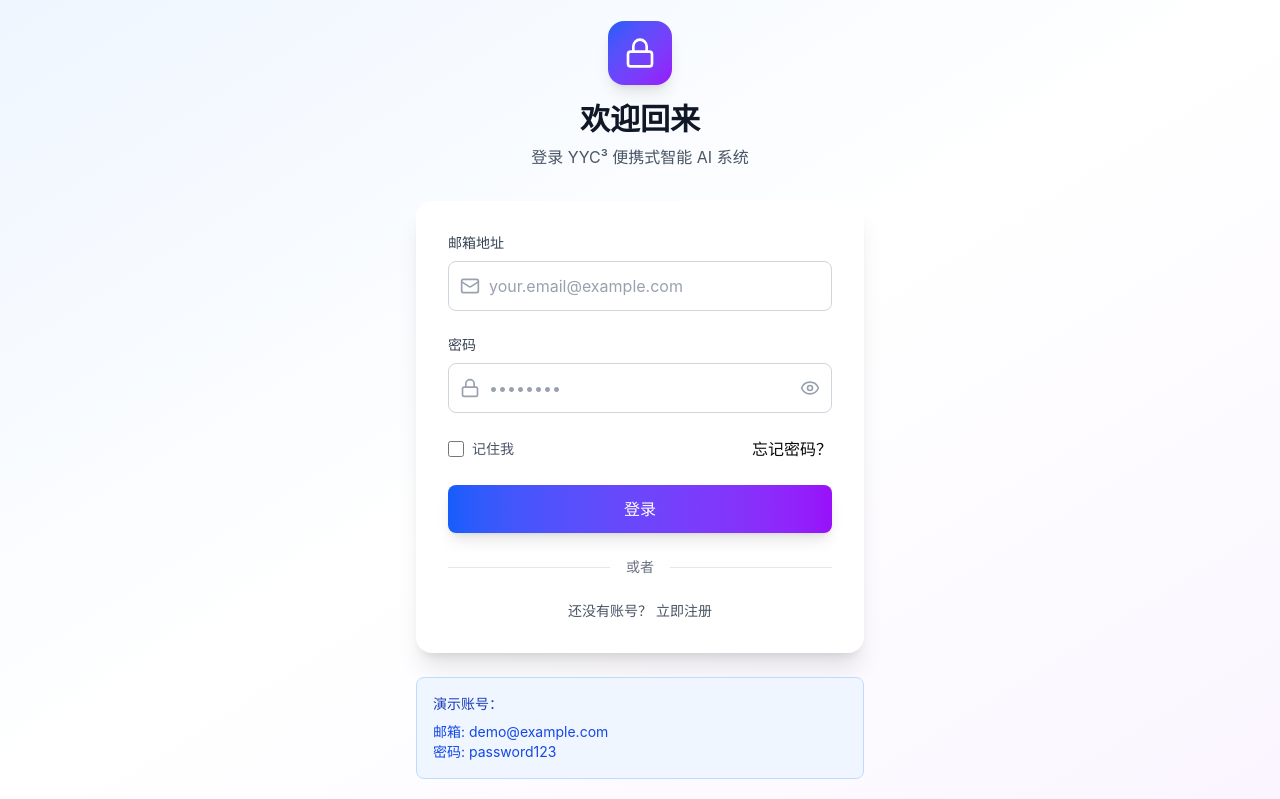
Test case: LoginPage › 应该显示登录错误信息
Type "wrong@example.com" into the field with placeholder "your.email@example.com". click: (640, 286)
box: [448,261,832,311]
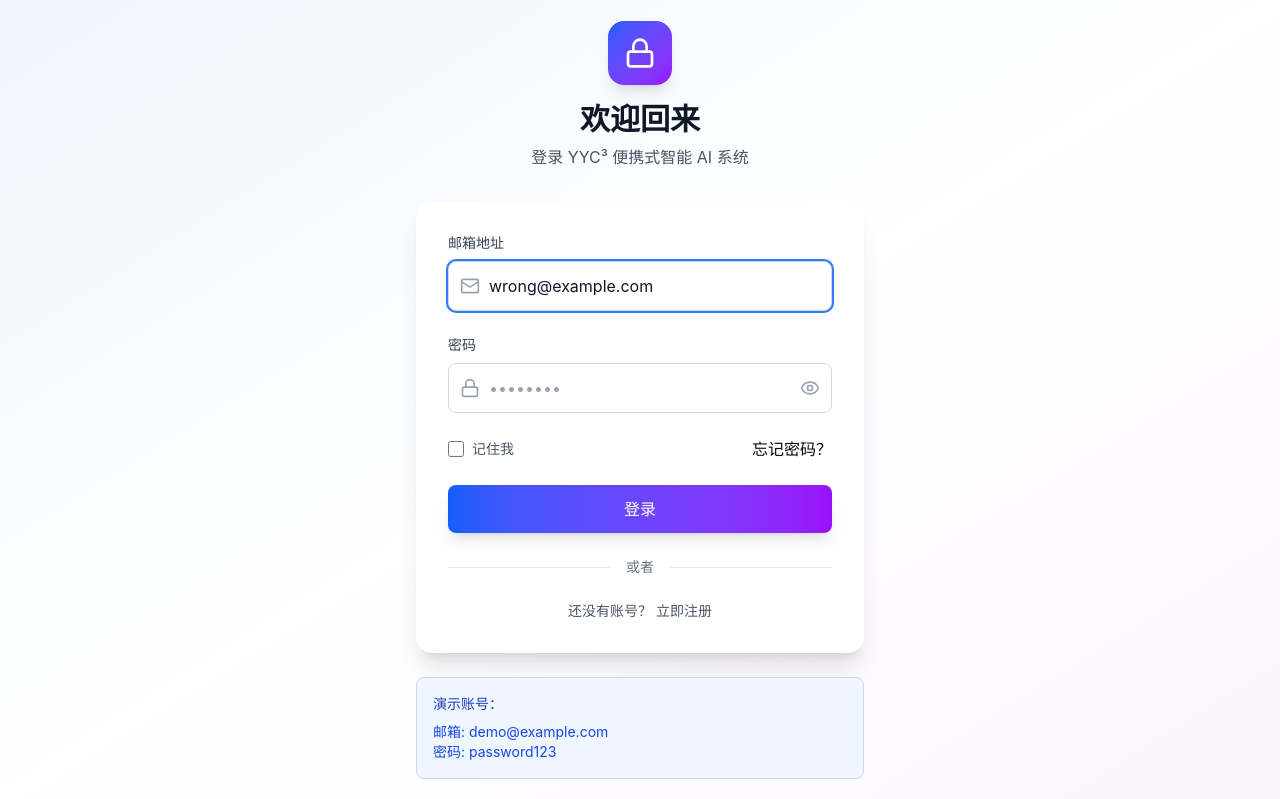
Type "wrongpassword" into the password field with placeholder "••••••••". click: (640, 388)
box: [448,363,832,413]
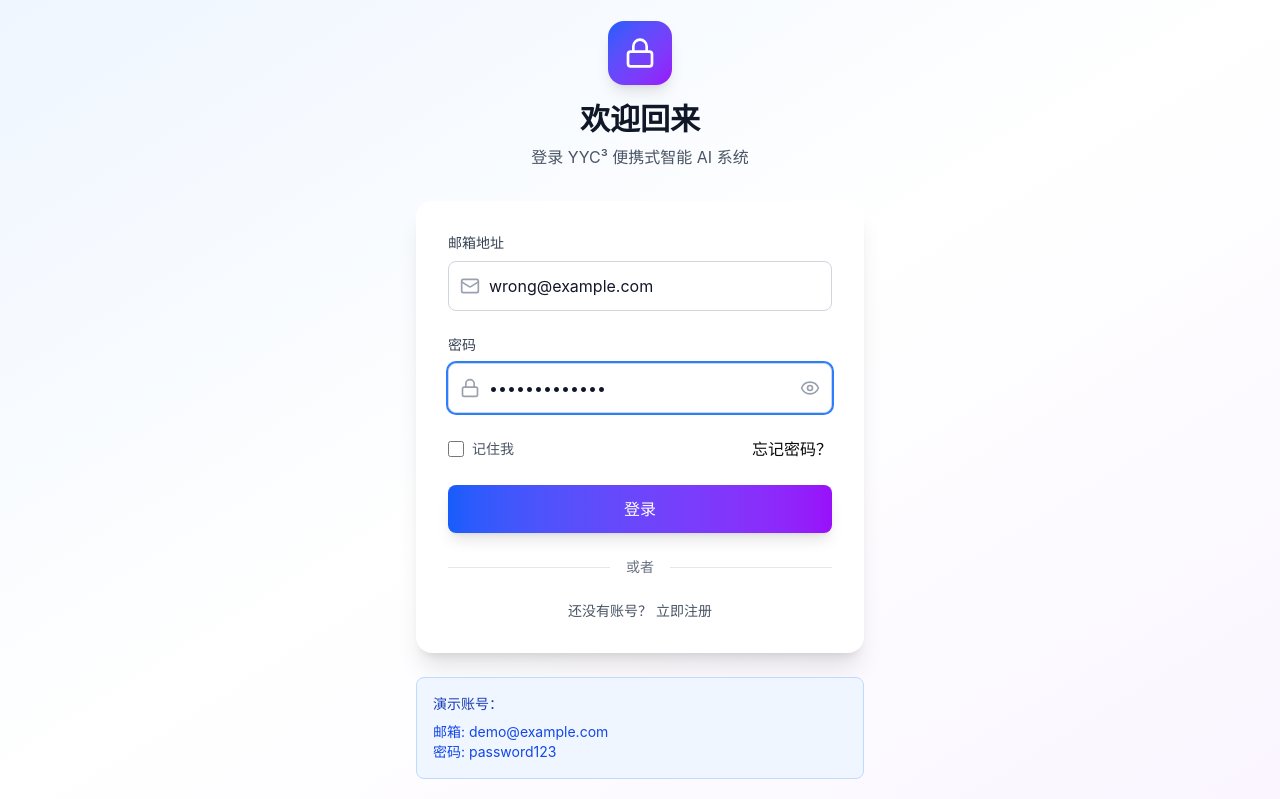
Click the button "登录". click: (640, 509)
box: [448,485,832,533]
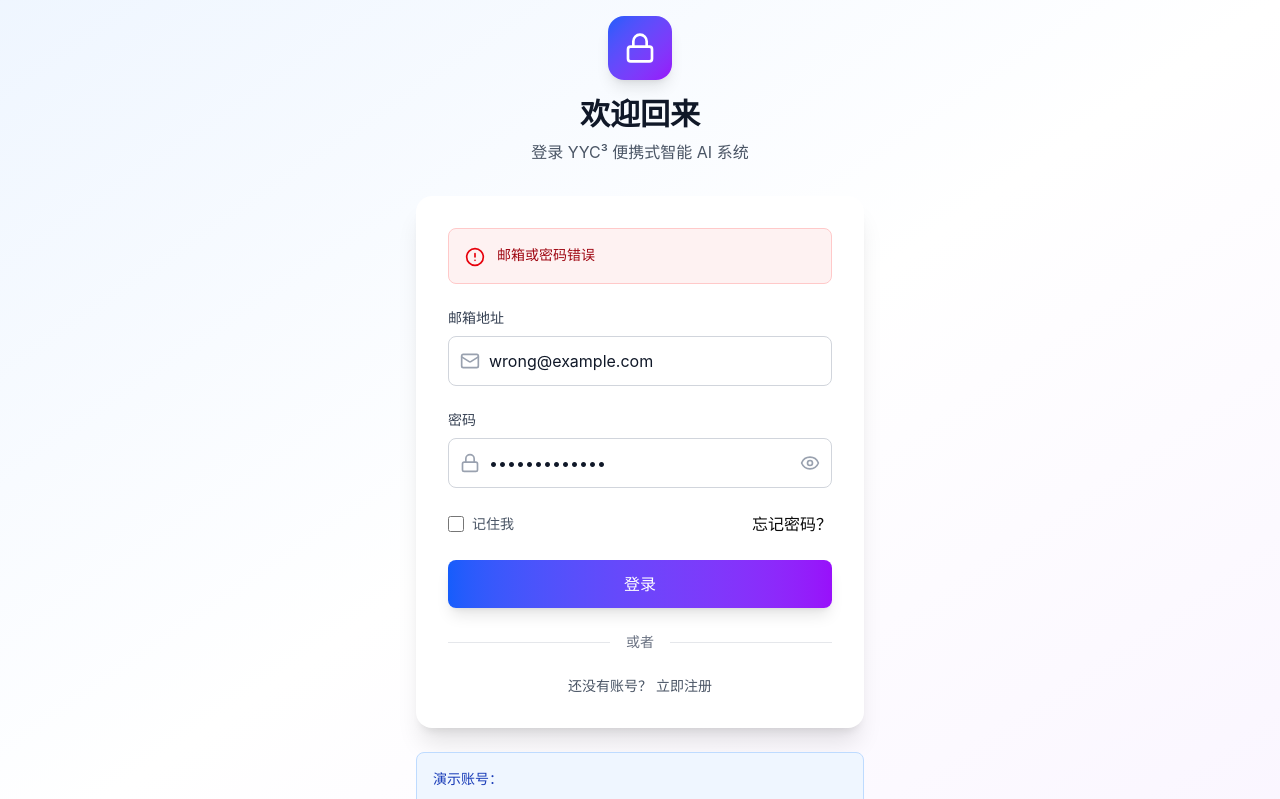
Expected: the text "邮箱或密码错误" is shown, [497,245,595,265]
